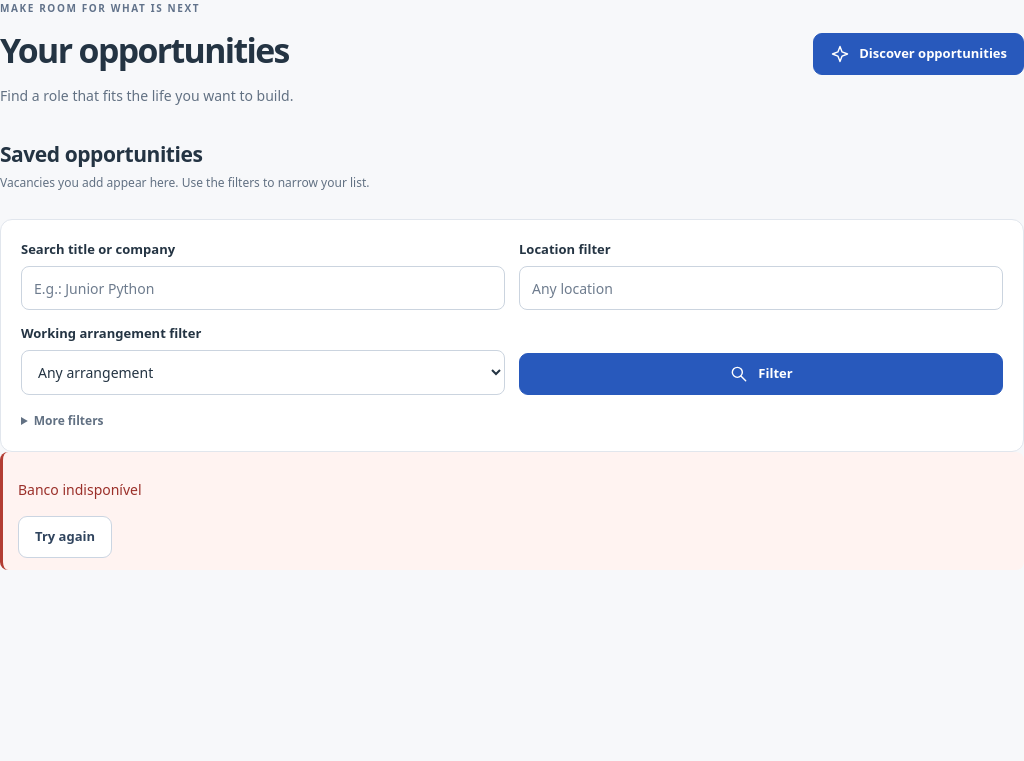
Scenario: interactive workflow › supports loading, failure, retry and empty inbox
This screenshot has width=1024, height=761.
Expected: the message shows "Banco indisponível", [18,480,142,499]
Click the button "Try again": (65, 537) [18,516,112,558]
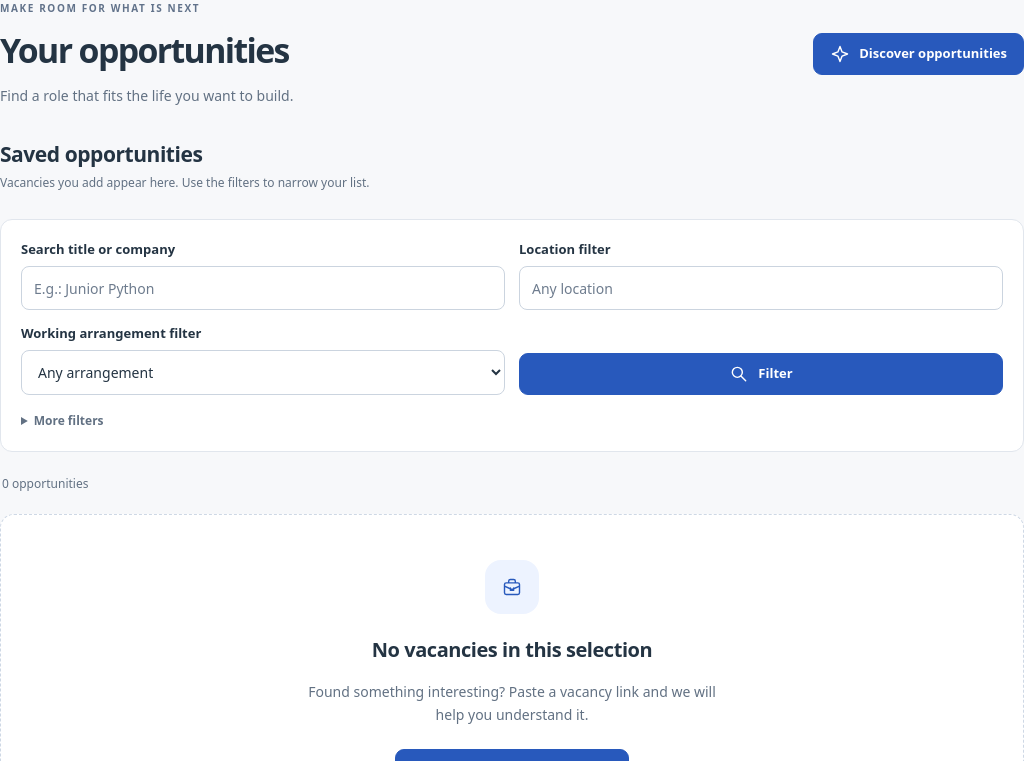
Expected: the heading "No vacancies in this selection" is shown, [372,636,652,663]
